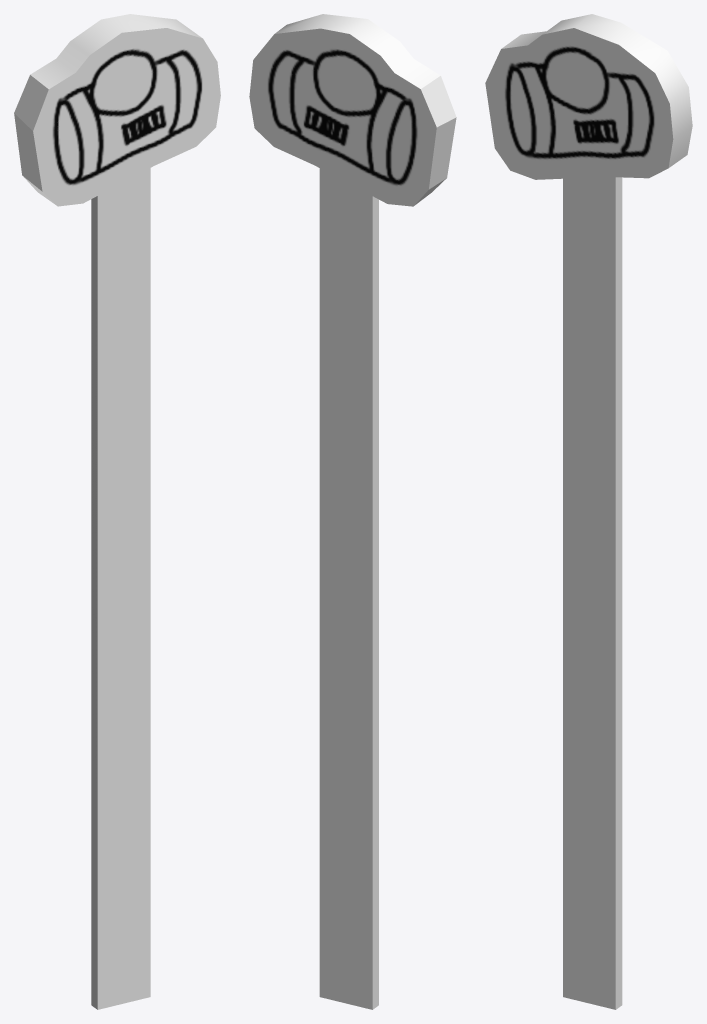
Rendered from Cashier_Can.fbx.
3 renders of one model, left to right at view 1: azimuth 30°, elevation 25°; view 2: azimuth 150°, elevation 25°; view 3: azimuth 330°, elevation 25°, orthographic.
Visible parts, largest first — view 1: Hand_can; view 2: Hand_can; view 3: Hand_can.
Part boxes in pixels (x1=…): Hand_can: x1=14, y1=14, x2=220, y2=1009; Hand_can: x1=249, y1=14, x2=456, y2=1009; Hand_can: x1=485, y1=14, x2=692, y2=1009.
Bounding box in the file's own units: 62.82 × 312 × 11.23.
